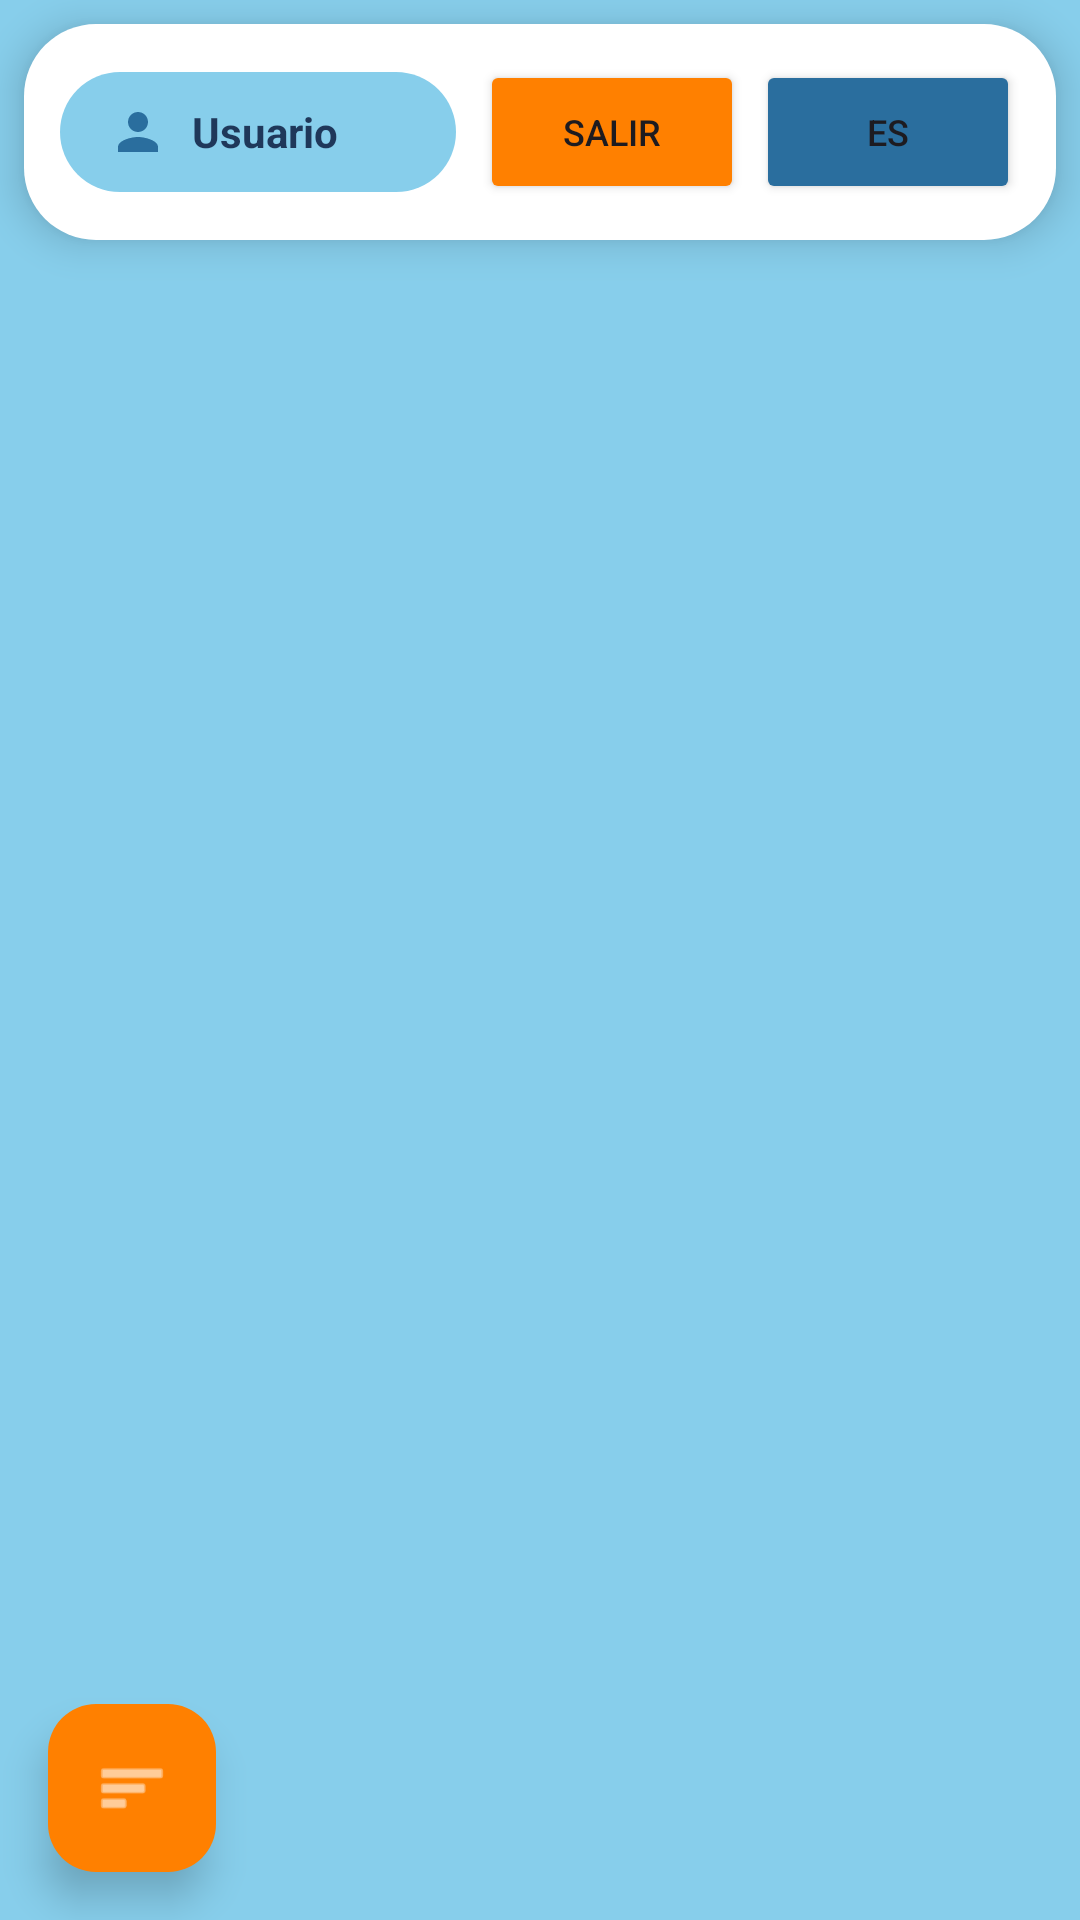

Where icons sit on this 1080*1920 app screen, as [x1,y1,x2,y2]:
Abrir catálogo de tutoriales: [48,1704,216,1872]
